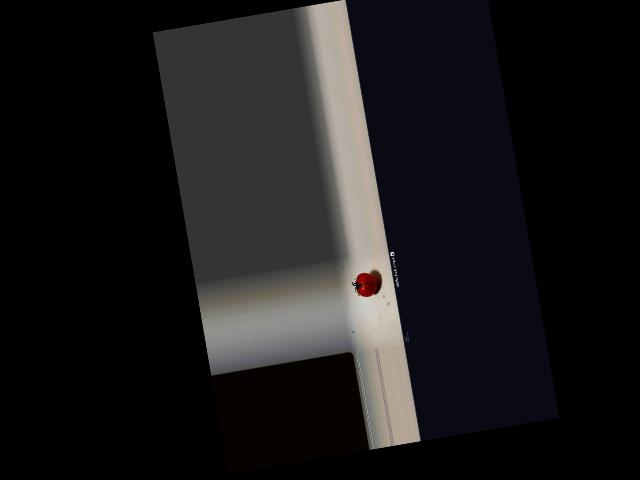tomato: (354, 271, 380, 298)
